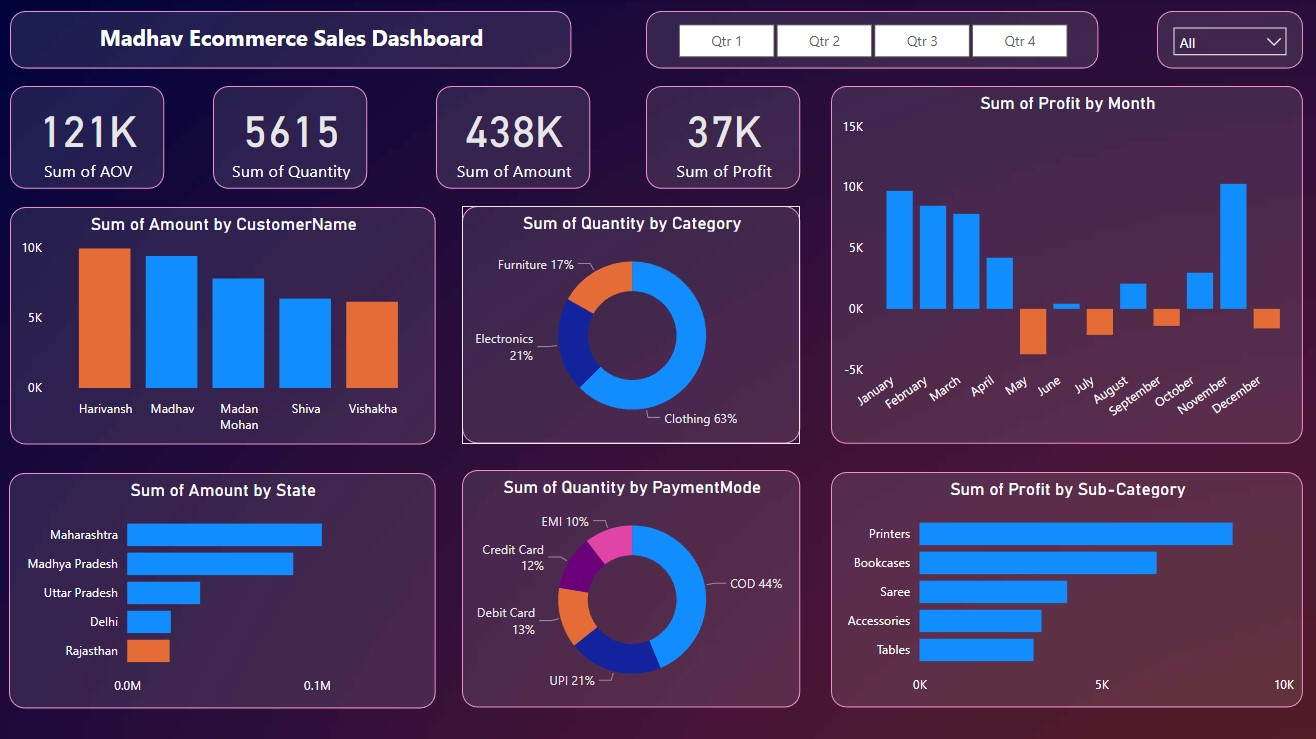

This screenshot's page, from the dashboard's own definition file:
{"tool":"powerbi","page":{"name":"Page 1","canvas":[1280,720],"ordinal":0},"visuals":[{"type":"textbox","box":[9.7,10.7,545.5,55.5],"z":0},{"type":"columnChart","fields":{"Category":["Orders.Order Date.Variation.Date Hierarchy.Month"],"Y":["Details.Profit"]},"box":[808.5,83.8,458.8,347.8],"z":1000},{"type":"barChart","fields":{"Category":["Details.Sub-Category"],"Y":["Details.Profit"]},"box":[808.5,458.8,458.8,228.9],"z":2000},{"type":"donutChart","fields":{"Category":["Details.Category"],"Y":["Details.Quantity"]},"box":[449.1,200.7,329.3,230.9],"z":3000},{"type":"donutChart","fields":{"Y":["Details.Quantity"],"Category":["Details.PaymentMode"]},"box":[449.1,456.9,329.3,230.9],"z":4000},{"type":"card","fields":{"Values":["Details.Amount"]},"box":[423.7,83.8,150,100.3],"z":5000},{"type":"card","fields":{"Values":["Details.Quantity"]},"box":[207.5,83.8,150,100.3],"z":6000},{"type":"card","fields":{"Values":["Details.Profit"]},"box":[628.3,83.8,150,100.3],"z":7000},{"type":"card","fields":{"Values":["Details.AOV"]},"box":[9.7,83.8,150,100.3],"z":8000},{"type":"barChart","fields":{"Category":["Orders.State"],"Y":["Details.Amount"]},"box":[8.8,459.8,415,228.9],"z":9000},{"type":"columnChart","fields":{"Category":["Orders.CustomerName"],"Y":["Details.Amount"]},"box":[10,201,414,231],"z":10000},{"type":"slicer","fields":{"Values":["Orders.Order Date.Variation.Date Hierarchy.Quarter"]},"box":[628.3,10.7,440.3,55.5],"z":11000},{"type":"slicer","fields":{"Values":["Orders.State"]},"box":[1125.1,10.7,142.2,55.5],"z":12000}]}

Visuals, with their boxes in screenshot pixels (x1, y1, x2, y2), scaled from the page's 1280x720 canvas onto the 1316x739 screenshot:
textbox: [left=10, top=11, right=571, bottom=68]
columnChart - Orders.Order Date.Variation.Date Hierarchy.Month x Details.Profit: [left=831, top=86, right=1303, bottom=443]
barChart - Details.Sub-Category x Details.Profit: [left=831, top=471, right=1303, bottom=706]
donutChart - Details.Category x Details.Quantity: [left=462, top=206, right=800, bottom=443]
donutChart - Details.Quantity x Details.PaymentMode: [left=462, top=469, right=800, bottom=706]
card - Details.Amount: [left=436, top=86, right=590, bottom=189]
card - Details.Quantity: [left=213, top=86, right=368, bottom=189]
card - Details.Profit: [left=646, top=86, right=800, bottom=189]
card - Details.AOV: [left=10, top=86, right=164, bottom=189]
barChart - Orders.State x Details.Amount: [left=9, top=472, right=436, bottom=707]
columnChart - Orders.CustomerName x Details.Amount: [left=10, top=206, right=436, bottom=443]
slicer - Orders.Order Date.Variation.Date Hierarchy.Quarter: [left=646, top=11, right=1099, bottom=68]
slicer - Orders.State: [left=1157, top=11, right=1303, bottom=68]
